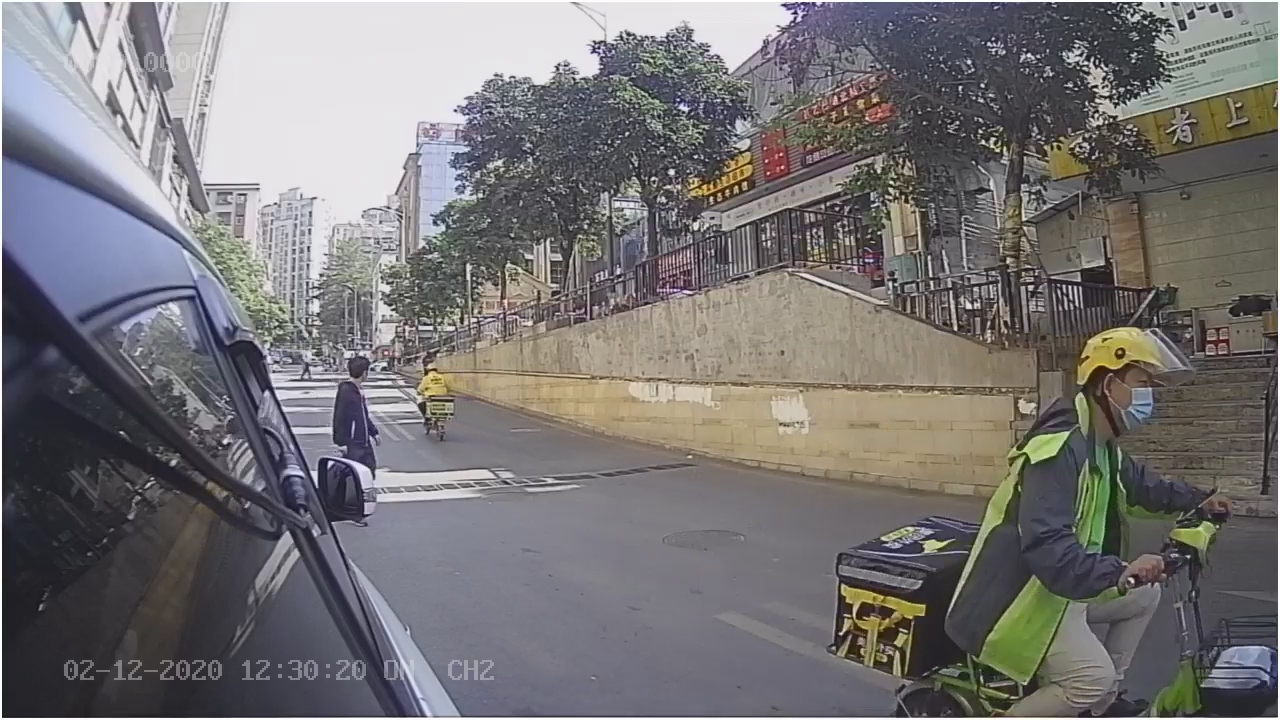person: (992, 320, 1195, 594)
